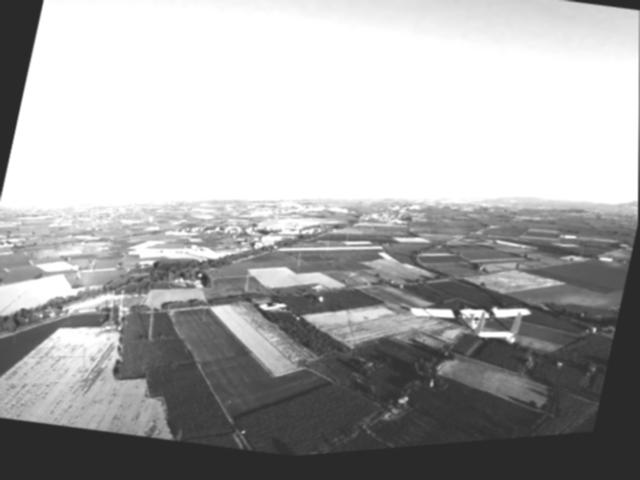hedef: (399, 275, 541, 386)
